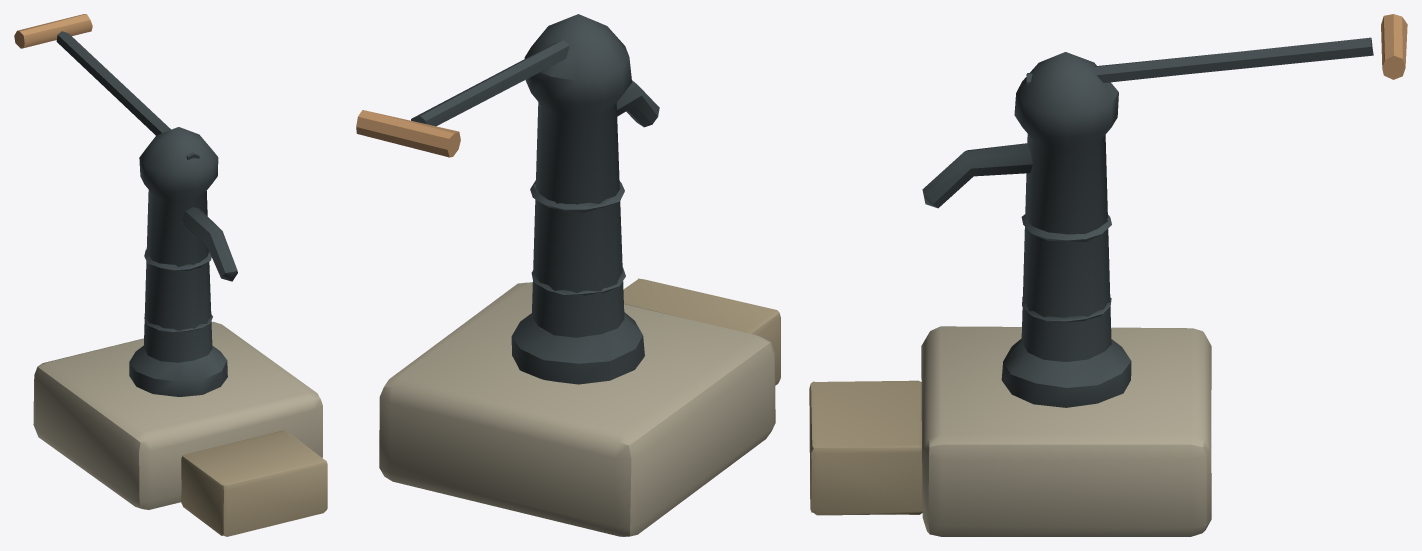
File: pump_hand.glb
3 renders of one model, left to right at view 1: azimuth 30°, elevation 25°; view 2: azimuth 150°, elevation 25°; view 3: azimuth 270°, elevation 25°, orthographic. The views are drawn at different scales.
Visible parts, largest first — view 1: PumpHand, Lever; view 2: PumpHand, Lever; view 3: PumpHand, Lever.
Boxes of the visible parts, x1,y1,x2,y2 form: PumpHand: (33,127,327,536); Lever: (14,14,199,159); PumpHand: (379,14,780,536); Lever: (356,39,569,157); PumpHand: (809,52,1211,536); Lever: (1026,14,1407,85).
Size of the model in its own units: 0.9049 by 1.55 by 1.87.
